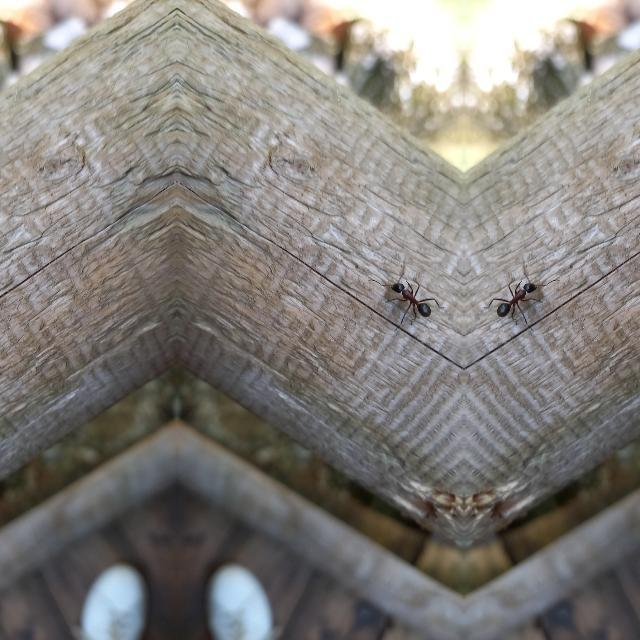Dolichoderus: (494, 260, 540, 326), (388, 260, 432, 326)
